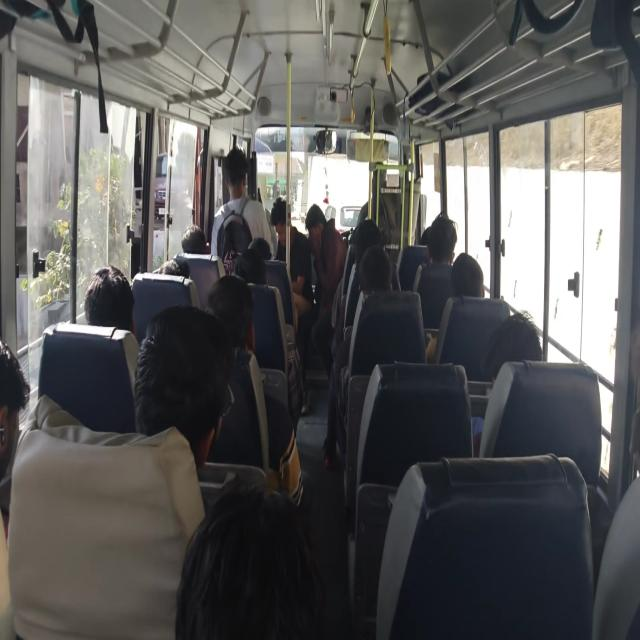person: (188, 470, 373, 640), (136, 315, 228, 469), (0, 368, 49, 492), (496, 304, 554, 376), (443, 251, 492, 313), (423, 205, 466, 275), (363, 240, 406, 308), (213, 276, 252, 350), (88, 270, 132, 334), (224, 149, 252, 211), (350, 212, 384, 255), (304, 205, 330, 257), (266, 196, 294, 243), (174, 219, 206, 253), (152, 248, 177, 285), (235, 259, 262, 292), (248, 236, 264, 262)
